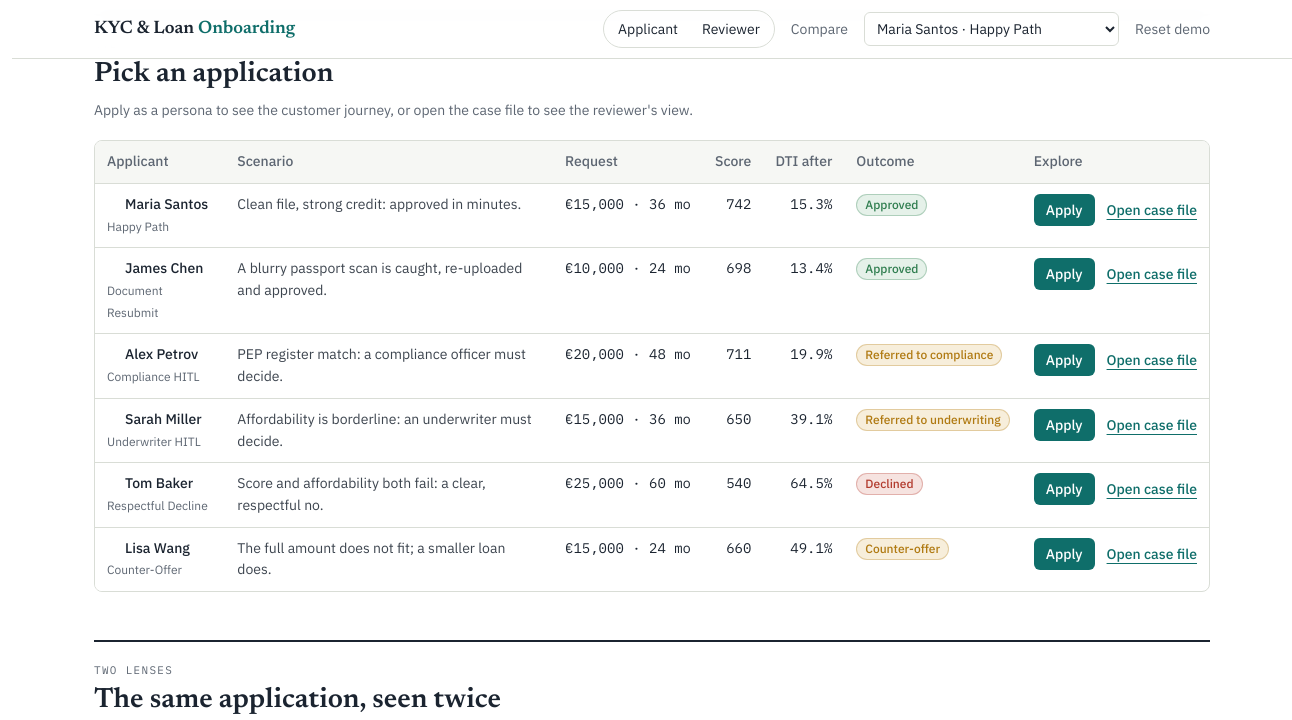
Test: Home › lists six cases with outcomes and actions
(page scrolled)
Expected: the text "Counter-offer" is shown, 856,538 -> 949,560
Click the link "Open case file" in the row of "Alex Petrov": (1152, 360) 1107,350 -> 1197,370
(page scrolled)
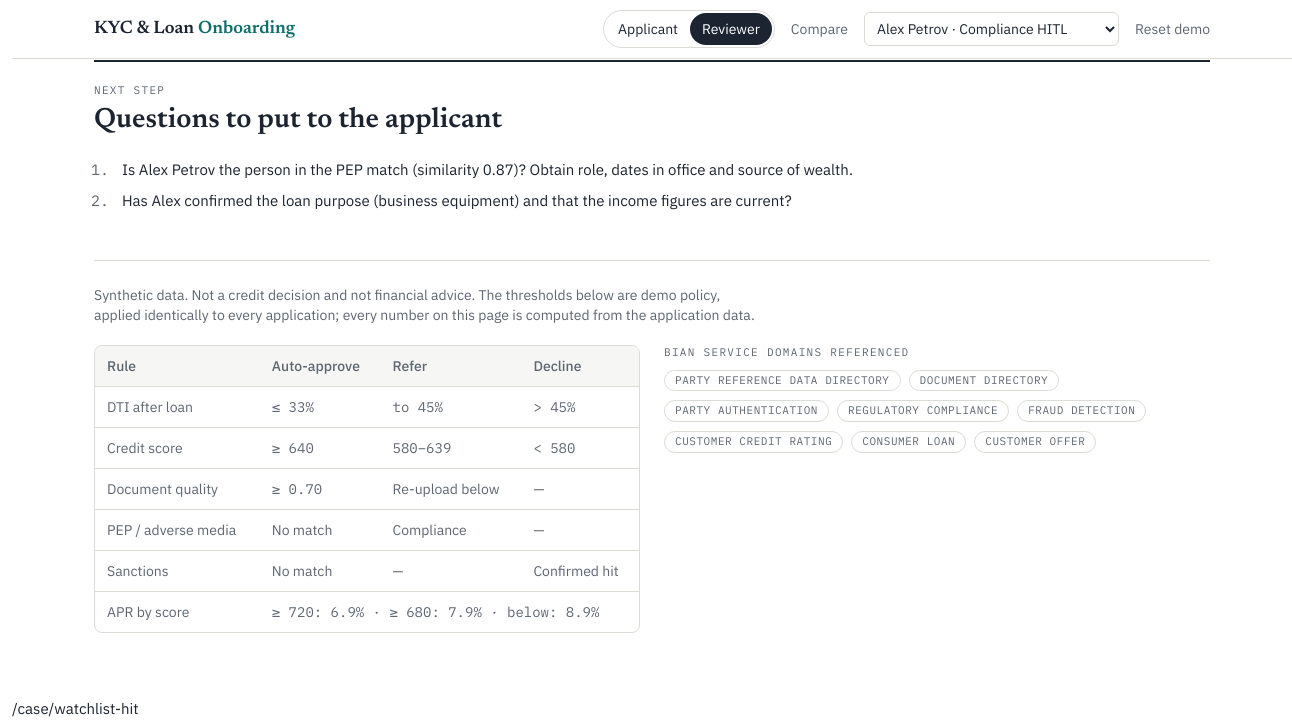
Expected: the text with test id "location" reads "/case/watchlist-hit", 12,699 -> 138,718
